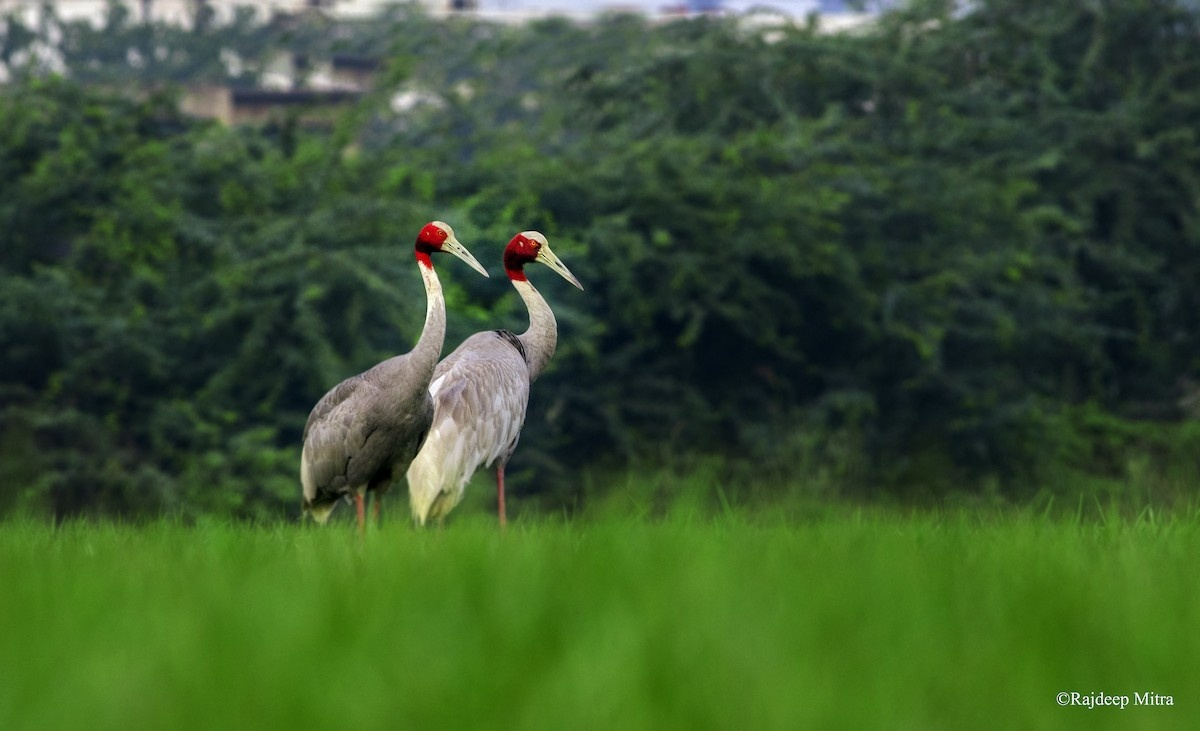crane: (281, 217, 494, 543), (427, 227, 597, 505)
